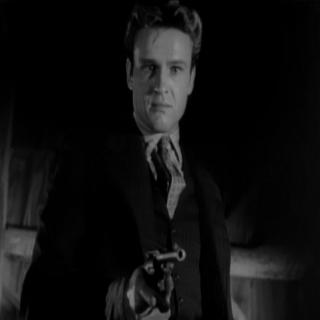gun: (122, 239, 185, 320)
